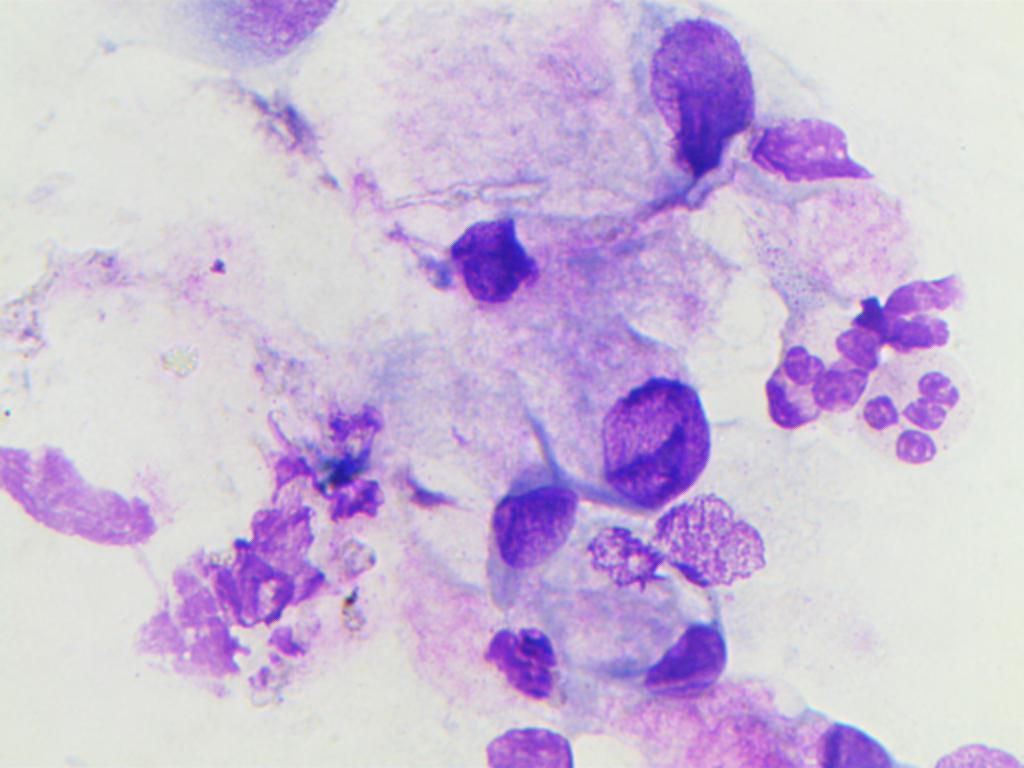epithelial: (644, 21, 756, 183), (604, 377, 704, 503), (645, 498, 772, 592), (447, 210, 534, 308), (491, 479, 578, 569), (485, 618, 565, 702), (652, 626, 730, 700)
goblet_cell: (705, 711, 913, 768), (465, 713, 668, 768)
neutrophil: (852, 352, 985, 474), (763, 322, 884, 442), (851, 269, 970, 355)
